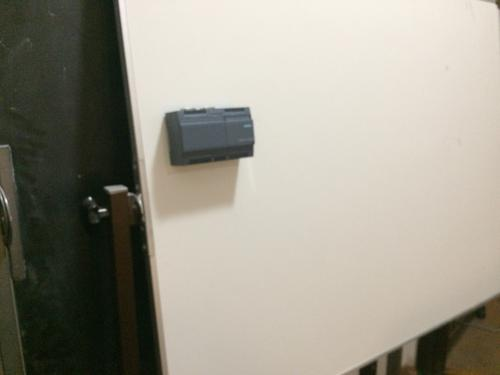iot2000: (164, 104, 255, 167)
